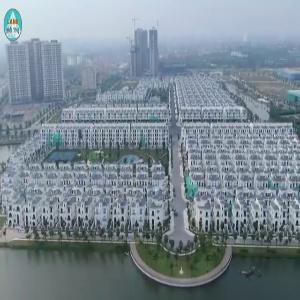drone: (230, 252, 274, 296)
